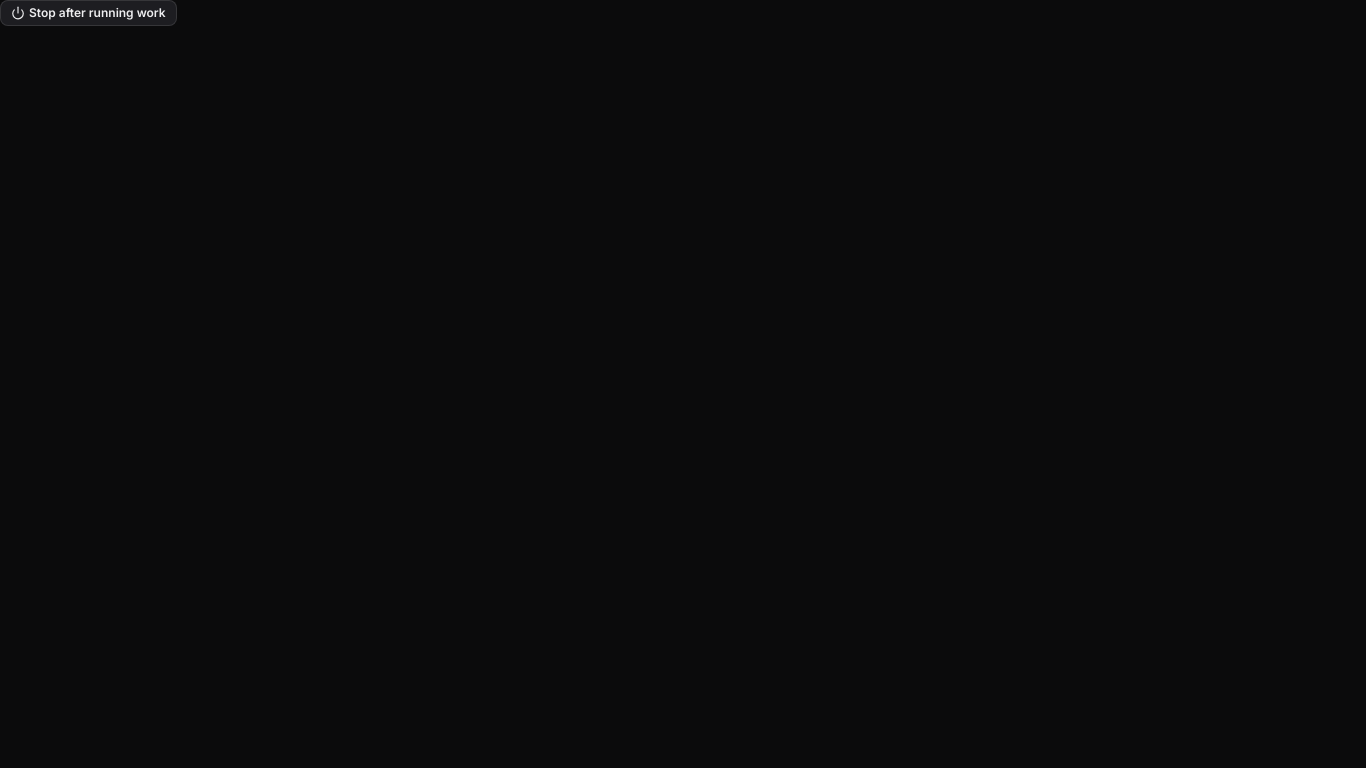
DrainControl as a button › sends nothing when the confirmation is cancelled
Click the button "Stop after running work".
click(88, 13)  # box x1=0 y1=0 x2=177 y2=26
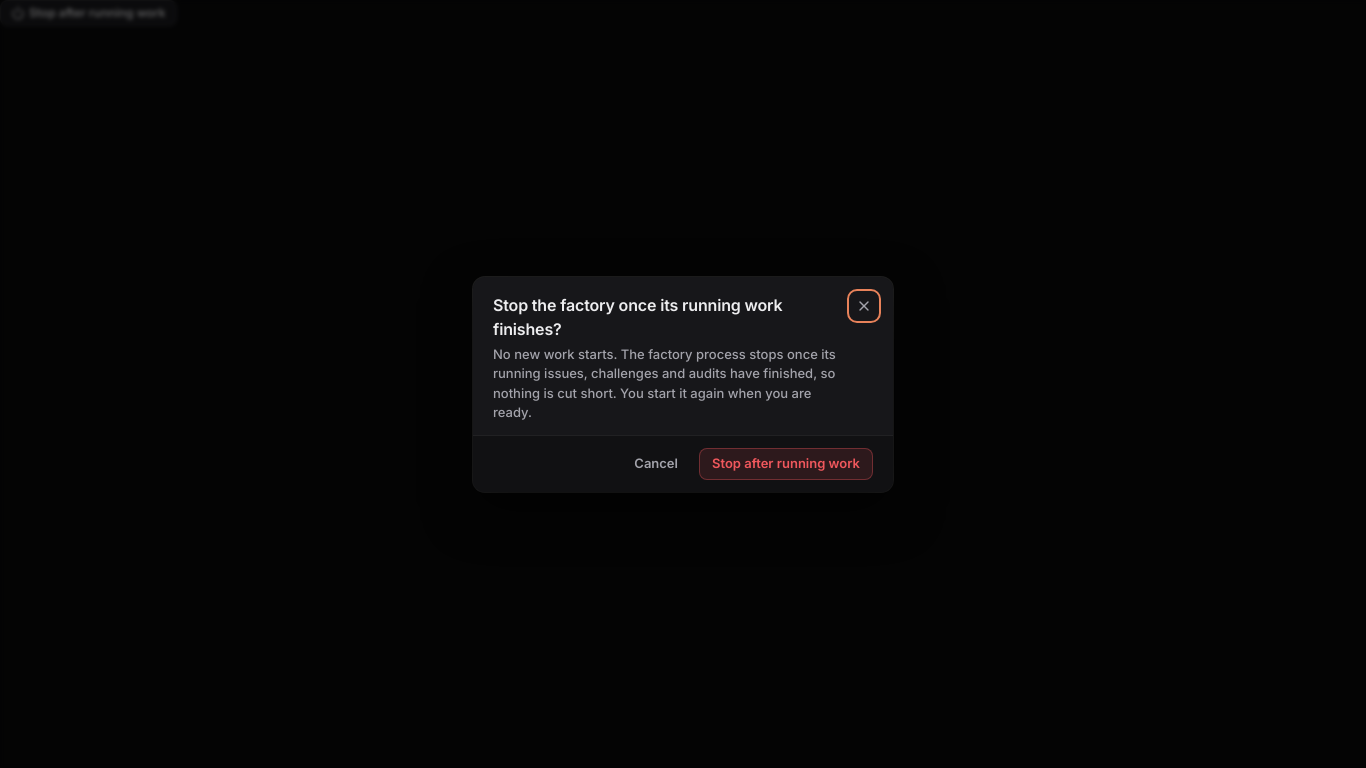
Click the button "Cancel".
click(656, 464)  # box x1=621 y1=448 x2=691 y2=480
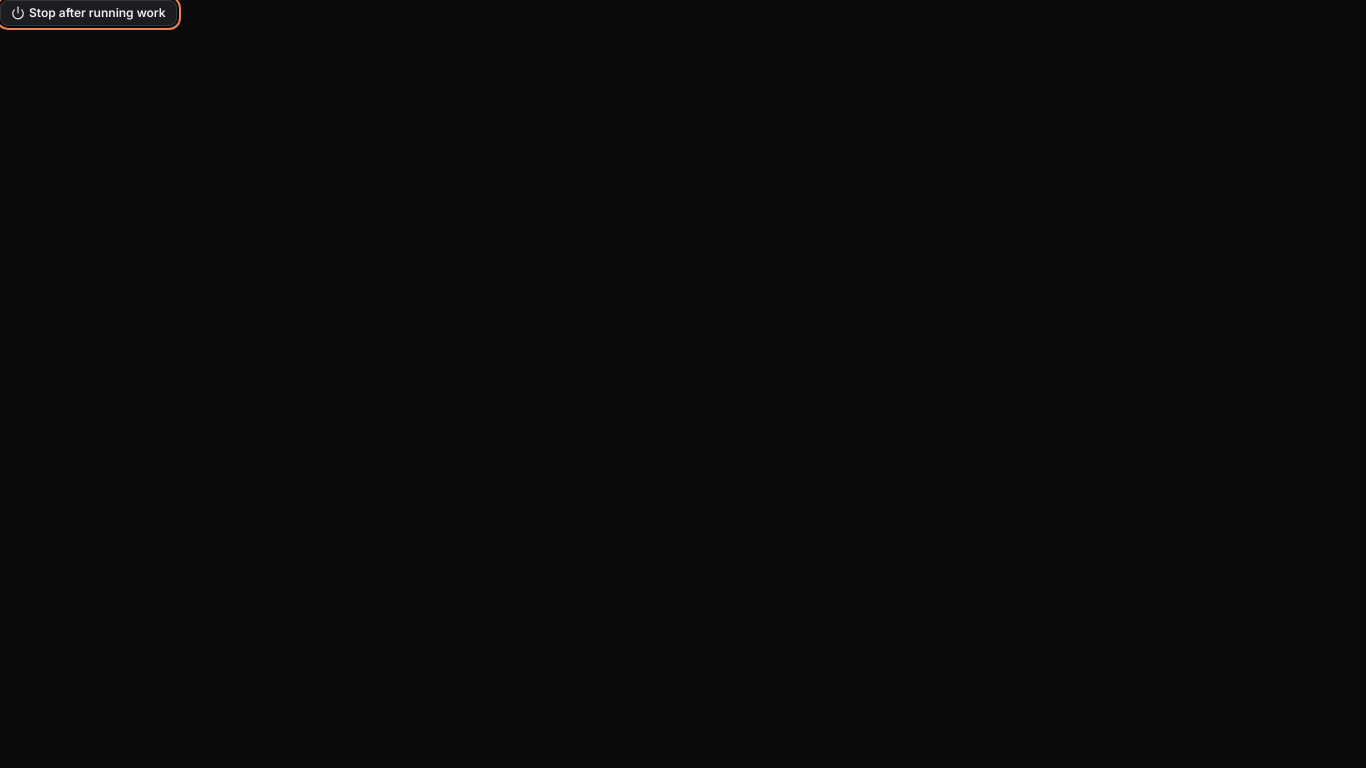
Check: the dialog is gone
